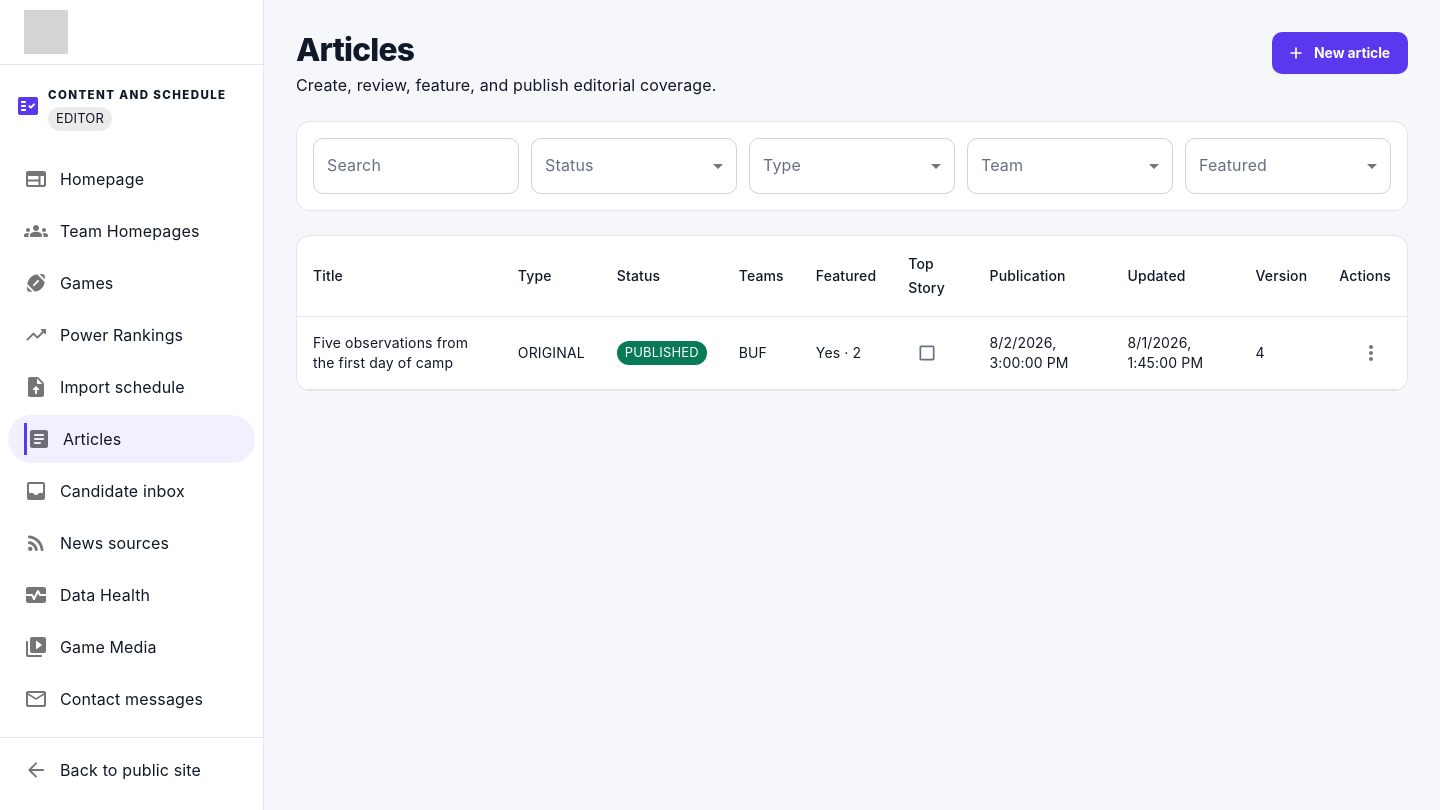
Test: Admin Article actions › keeps versioned unpublish working from the article menu
Click the button named "Open actions for Five observations from the first day of cam": (1371, 353) [1351,333,1391,373]
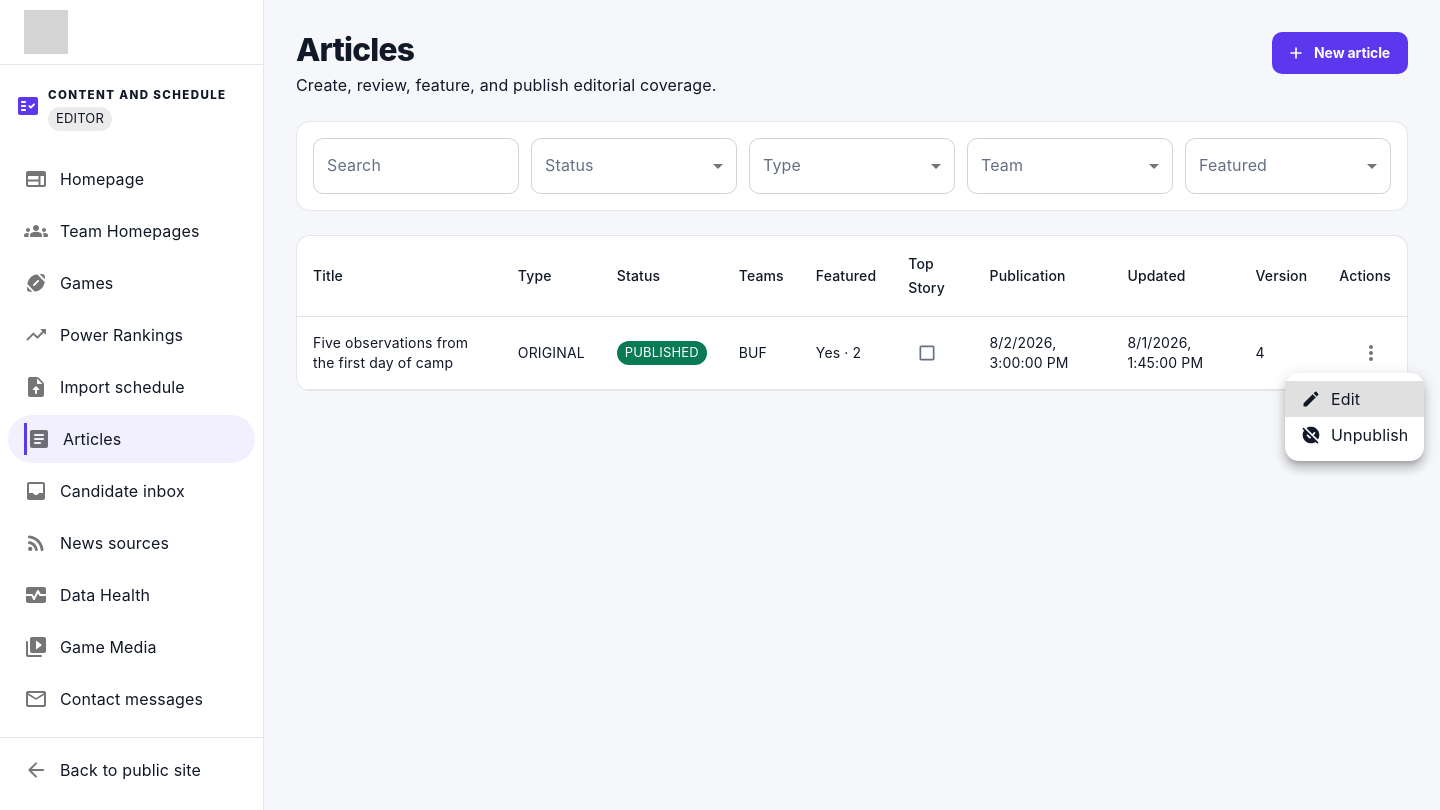
Click the menu item "Unpublish": (1355, 435) [1301,425,1408,445]
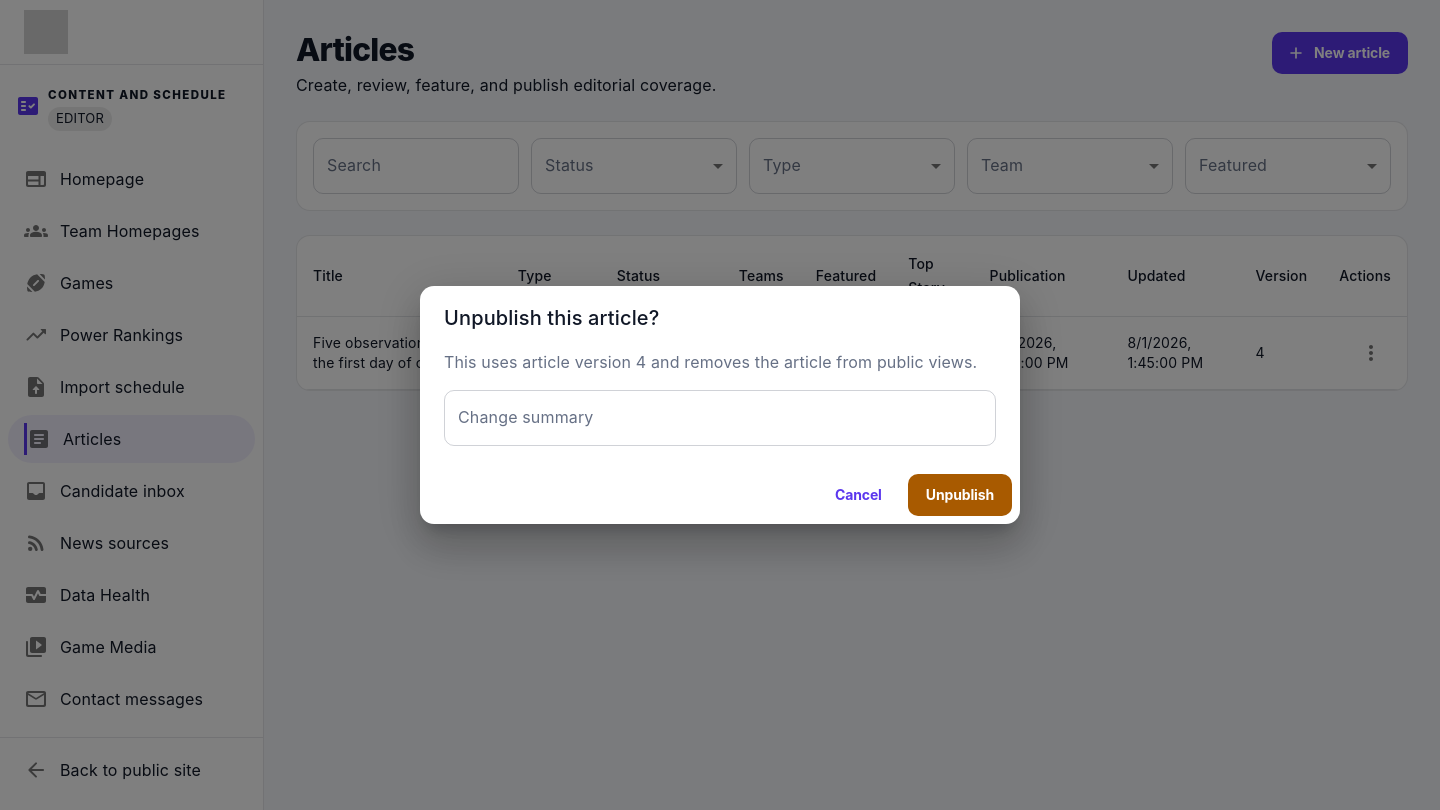
In the field labelled "Change summary": (720, 418) [444,390,996,446], type "Needs another review."
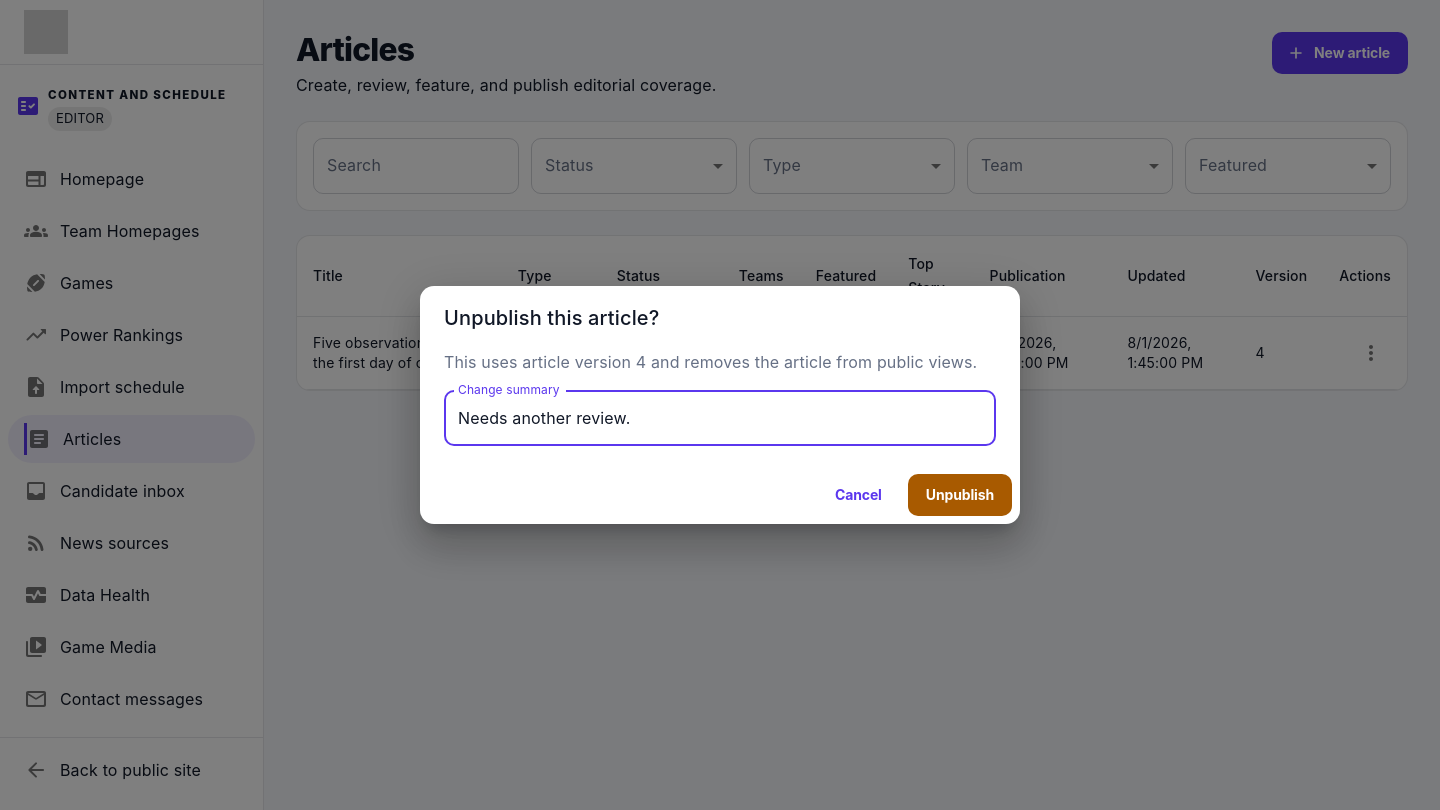
Click the button "Unpublish": (960, 495) [908,474,1012,516]
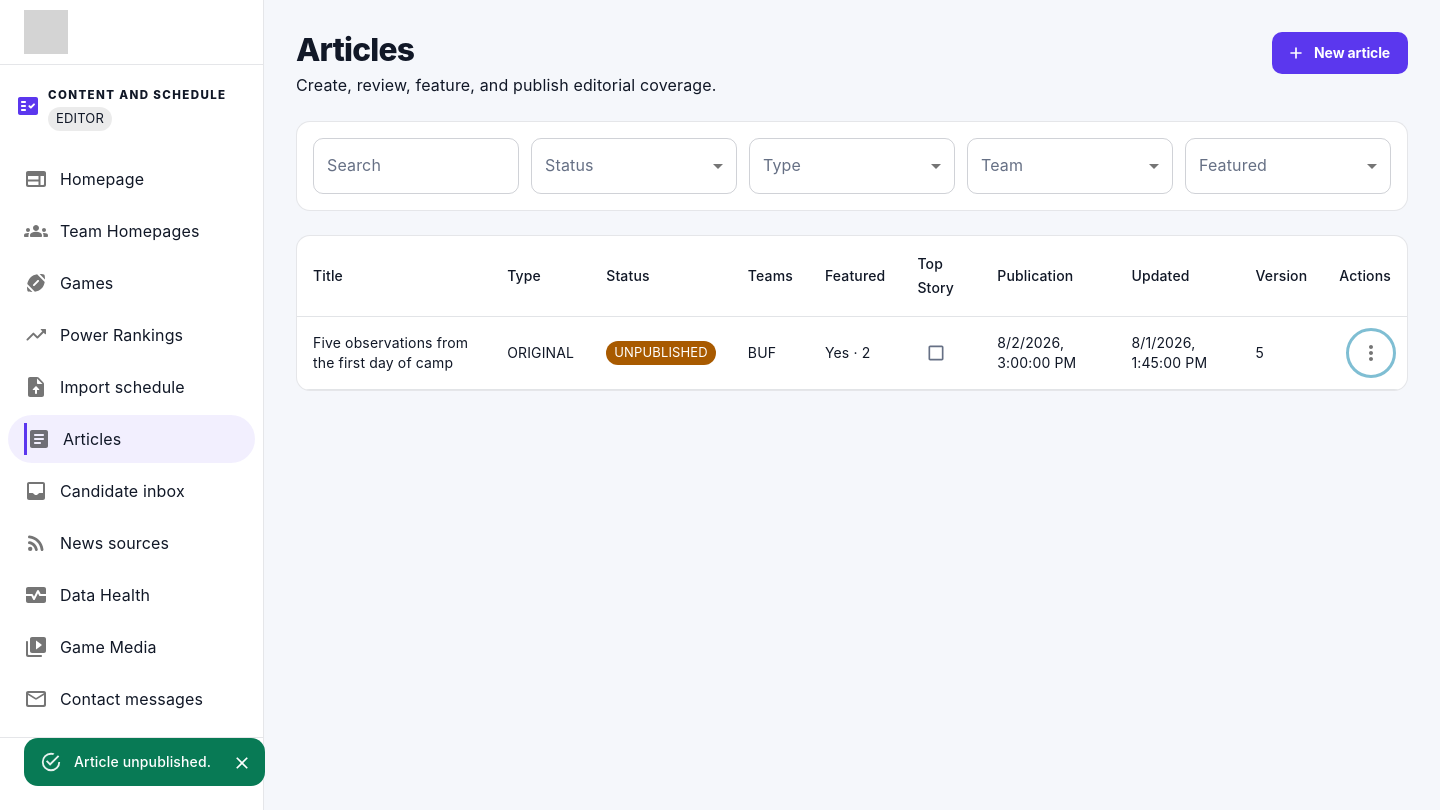
Now the text "Article unpublished." is shown, box [74,753,211,770]
